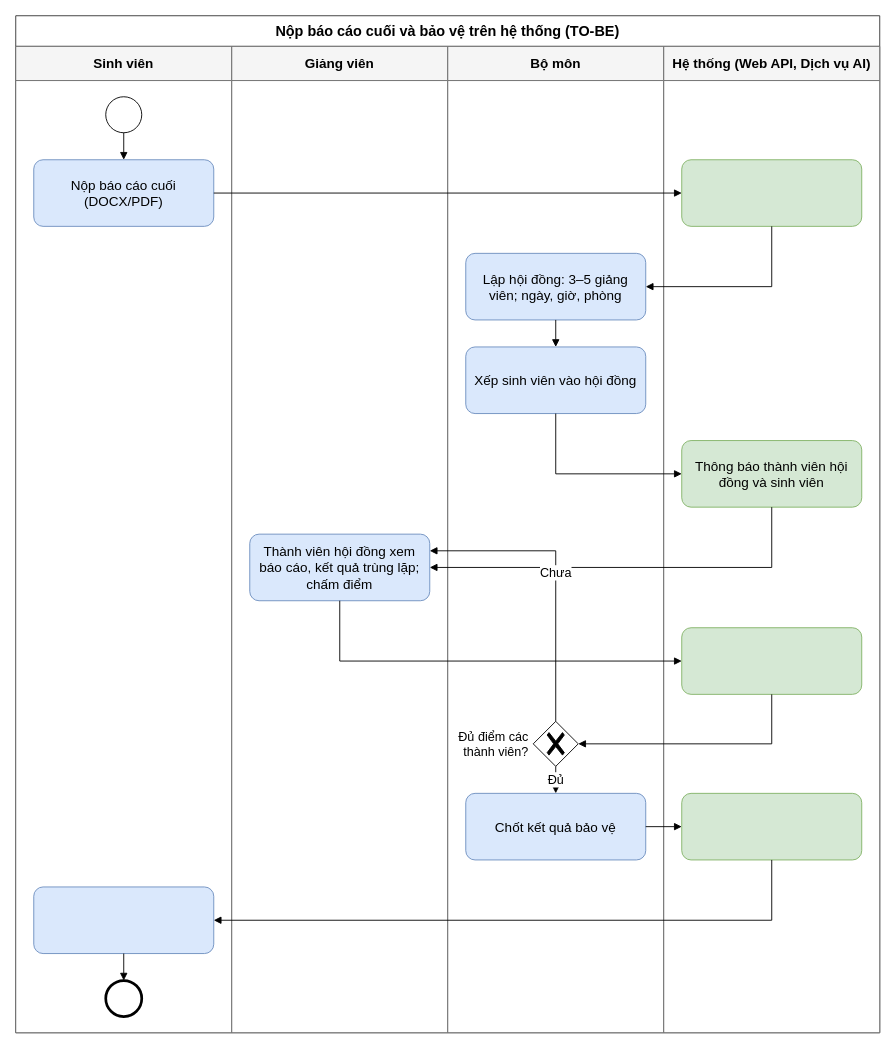
The diagram is 896 pixels wide and 1049 high, and some of its shapes have lost their labels. Each missing label, with the centre of its shape:
Bắt đầu: the point at 123,114
Khóa điểm, thông báo SV, tạo bản ghi kho, đánh chỉ mục: the point at 771,826
Kết thúc: the point at 123,998
Lưu phiên bản; kiểm tra trùng lặp tài liệu (chạy nền): the point at 771,192
Lưu điểm, tính điểm trung bình cộng: the point at 771,660
Xem lịch và kết quả bảo vệ: the point at 123,920
